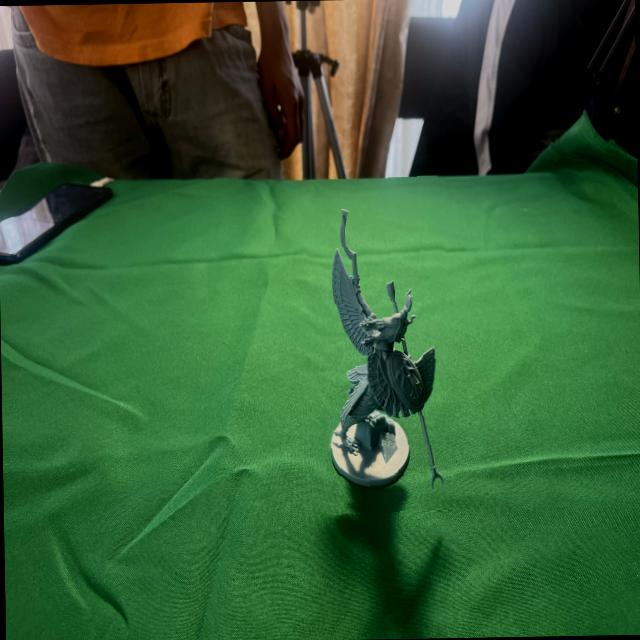isis: (304, 176, 454, 514)
